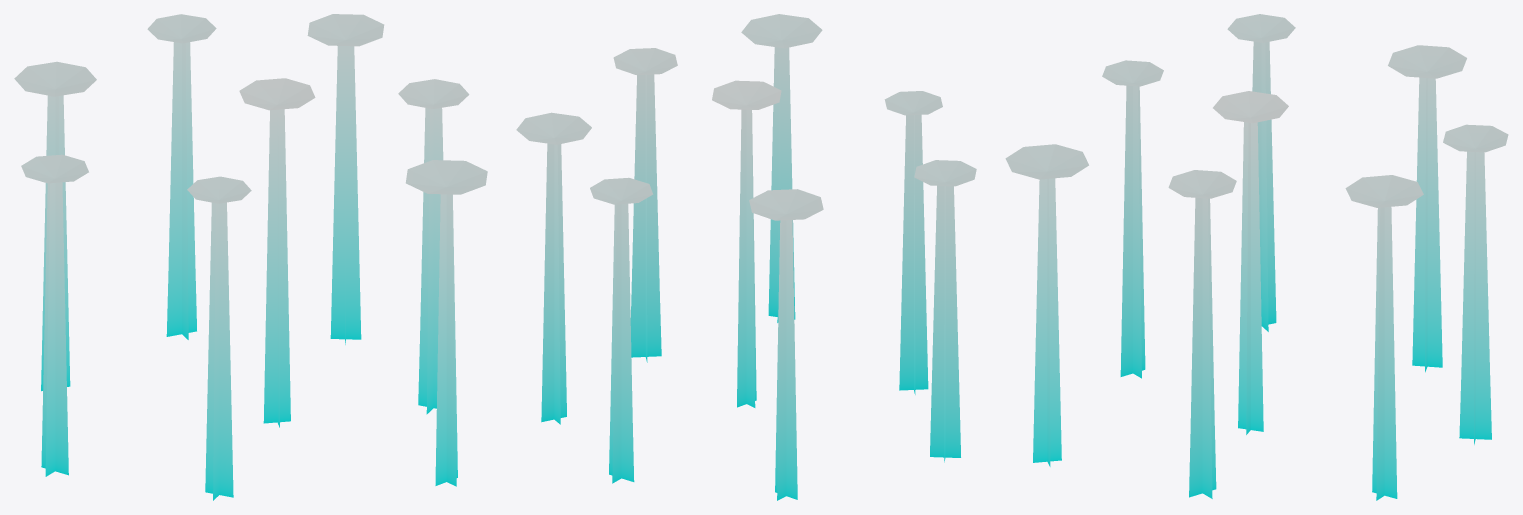
File: Flower_A2_0.7m_Cluster_02.fbx
3 renders of one model, left to right at view 1: azimuth 30°, elevation 25°; view 2: azimuth 150°, elevation 25°; view 3: azimuth 270°, elevation 25°, orthographic. The views are drawn at different scales.
Parts seen in each view (by area): view 1: Flower_A2_0.7m_Cluster_02_LOD0; view 2: Flower_A2_0.7m_Cluster_02_LOD0; view 3: Flower_A2_0.7m_Cluster_02_LOD0.
Boxes of the visible parts, bbox=[...] form: Flower_A2_0.7m_Cluster_02_LOD0: bbox=[14, 14, 487, 500]; Flower_A2_0.7m_Cluster_02_LOD0: bbox=[516, 14, 976, 500]; Flower_A2_0.7m_Cluster_02_LOD0: bbox=[1005, 14, 1508, 500].
Size of what is drawn, in the model's own units: 0.8873 by 0.6655 by 0.9396.
